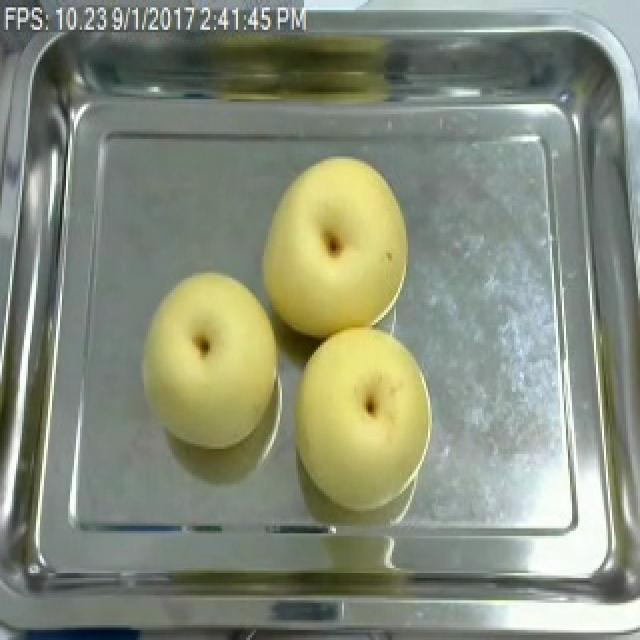Fruit: (276, 317, 440, 516), (254, 146, 418, 345), (132, 263, 290, 459)
